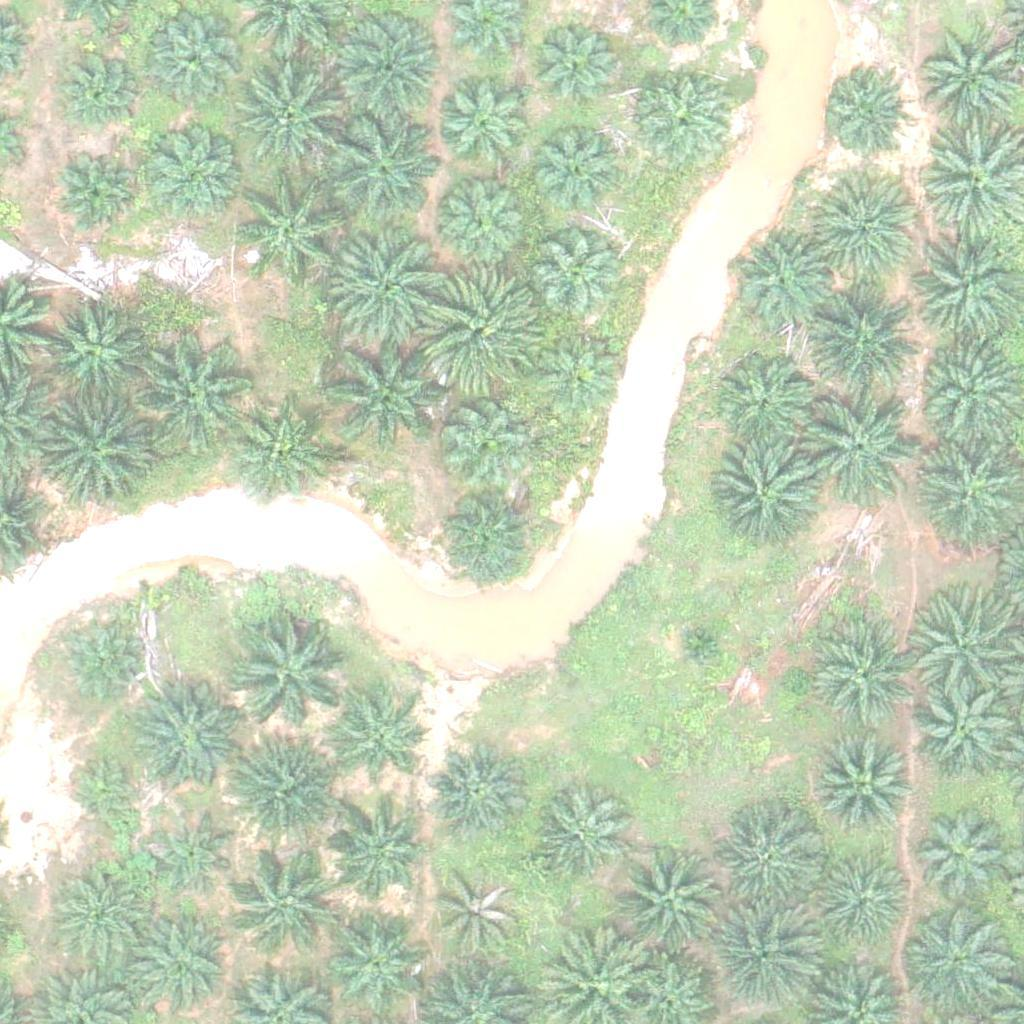Kelapa_Sawit: (36, 393, 149, 507), (910, 235, 1023, 349), (808, 171, 921, 285), (325, 8, 438, 122), (707, 442, 820, 555), (708, 900, 821, 1013), (233, 611, 346, 724), (127, 684, 240, 797), (424, 272, 537, 385), (329, 106, 442, 219), (900, 904, 1012, 1018), (232, 842, 344, 956), (807, 279, 919, 393), (336, 233, 448, 347), (911, 433, 1023, 546), (911, 581, 1023, 694), (799, 390, 911, 503), (613, 844, 725, 957), (325, 335, 437, 448), (223, 739, 335, 852), (136, 335, 248, 448), (237, 172, 349, 285), (237, 63, 349, 176), (912, 809, 1012, 910), (913, 679, 1013, 780), (714, 352, 814, 453), (529, 785, 629, 886), (325, 805, 425, 906), (127, 918, 227, 1019), (633, 64, 733, 165), (525, 125, 625, 226), (142, 18, 242, 119), (43, 299, 143, 400), (733, 232, 833, 333), (814, 630, 914, 730), (815, 739, 915, 839), (815, 855, 915, 955), (717, 815, 817, 915), (435, 487, 535, 587), (426, 740, 526, 840), (325, 909, 425, 1009), (232, 408, 332, 508), (50, 866, 150, 966), (435, 171, 535, 271), (439, 75, 539, 175), (141, 124, 241, 224), (439, 394, 527, 482), (150, 812, 238, 900), (55, 620, 143, 708), (536, 329, 624, 417), (53, 153, 141, 241), (435, 871, 522, 959), (337, 701, 424, 789), (821, 65, 908, 153), (534, 237, 621, 325), (529, 16, 616, 104), (51, 43, 138, 131), (67, 751, 142, 826), (672, 617, 722, 668)
